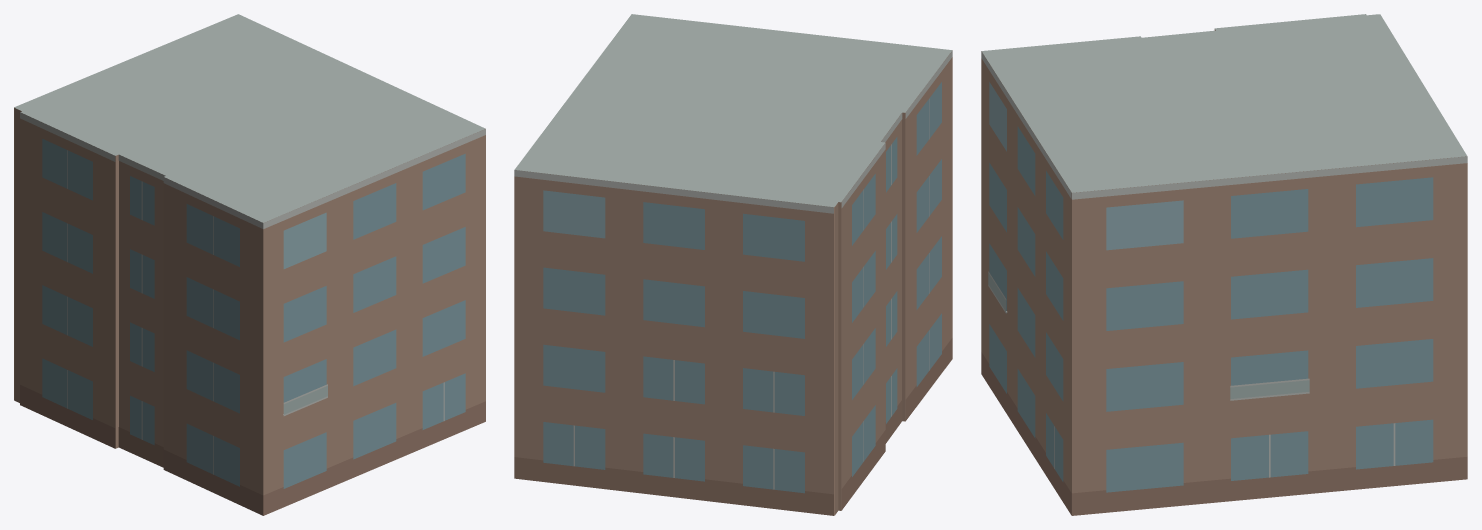
The model's file is survey-upis-32820317.glb.
3 views of the same model, side by side, from view 1: azimuth 30°, elevation 25°; view 2: azimuth 150°, elevation 25°; view 3: azimuth 270°, elevation 25° (orthographic). The views are drawn at different scales.
Parts seen in each view (by area): view 1: survey-upis-32820317.tmp; view 2: survey-upis-32820317.tmp; view 3: survey-upis-32820317.tmp.
Part boxes in pixels (x1=…): survey-upis-32820317.tmp: x1=14, y1=14, x2=485, y2=515; survey-upis-32820317.tmp: x1=514, y1=14, x2=952, y2=515; survey-upis-32820317.tmp: x1=981, y1=14, x2=1467, y2=515.
Bounding box in the file's own units: 13.6 × 11.45 × 15.62.
